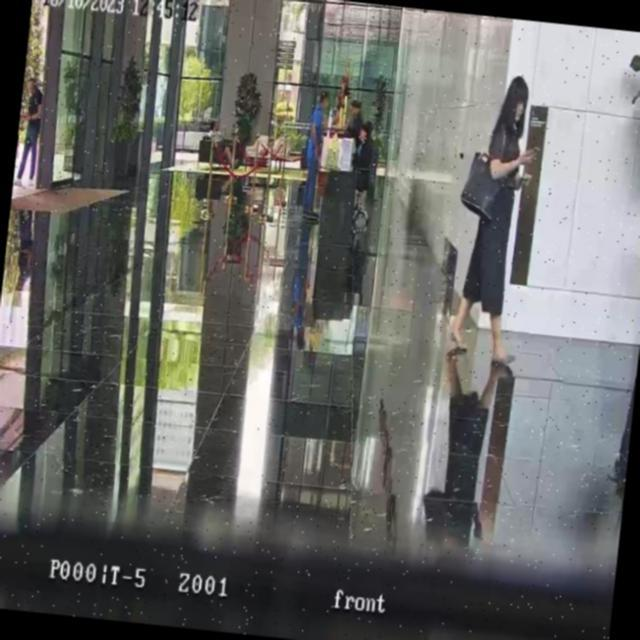person: (444, 70, 544, 367), (299, 88, 329, 213), (14, 76, 46, 188), (351, 121, 380, 212), (204, 118, 244, 172), (343, 98, 365, 152)
